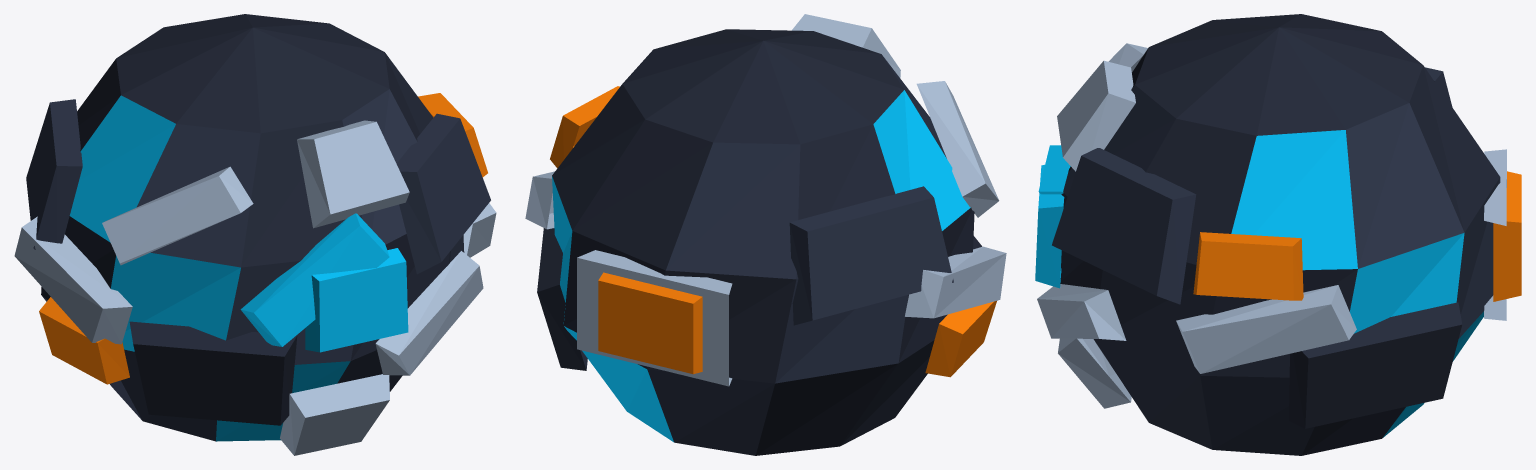
File: SM_Chassis_Trickster_01.obj
The picture shows the model from 3 angles, left to right: view 1: azimuth 30°, elevation 25°; view 2: azimuth 150°, elevation 25°; view 3: azimuth 270°, elevation 25°; orthographic projection. The views are drawn at different scales.
Visible parts, largest first — view 1: SM_Chassis_Trickster_01__MAT_DarkNeutral, SM_Chassis_Trickster_01__MAT_LightTrim, SM_Chassis_Trickster_01__EMI_Cyan, SM_Chassis_Trickster_01__MAT_AltNeutral, SM_Chassis_Trickster_01__EMI_Kinetic; view 2: SM_Chassis_Trickster_01__MAT_DarkNeutral, SM_Chassis_Trickster_01__MAT_AltNeutral, SM_Chassis_Trickster_01__MAT_LightTrim, SM_Chassis_Trickster_01__EMI_Kinetic, SM_Chassis_Trickster_01__EMI_Cyan; view 3: SM_Chassis_Trickster_01__MAT_DarkNeutral, SM_Chassis_Trickster_01__MAT_AltNeutral, SM_Chassis_Trickster_01__EMI_Cyan, SM_Chassis_Trickster_01__MAT_LightTrim, SM_Chassis_Trickster_01__EMI_Kinetic.
Boxes of the visible parts, x1,y1,x2,y2 form: SM_Chassis_Trickster_01__MAT_DarkNeutral: (41, 14, 449, 441); SM_Chassis_Trickster_01__MAT_LightTrim: (14, 120, 496, 455); SM_Chassis_Trickster_01__EMI_Cyan: (69, 95, 408, 441); SM_Chassis_Trickster_01__MAT_AltNeutral: (26, 89, 490, 419); SM_Chassis_Trickster_01__EMI_Kinetic: (39, 93, 487, 384); SM_Chassis_Trickster_01__MAT_DarkNeutral: (537, 29, 981, 455); SM_Chassis_Trickster_01__MAT_AltNeutral: (552, 55, 953, 455); SM_Chassis_Trickster_01__MAT_LightTrim: (525, 14, 1006, 386); SM_Chassis_Trickster_01__EMI_Kinetic: (550, 86, 996, 377); SM_Chassis_Trickster_01__EMI_Cyan: (552, 90, 970, 442); SM_Chassis_Trickster_01__MAT_DarkNeutral: (1060, 14, 1499, 455); SM_Chassis_Trickster_01__MAT_AltNeutral: (1052, 67, 1500, 455); SM_Chassis_Trickster_01__EMI_Cyan: (1035, 130, 1483, 437); SM_Chassis_Trickster_01__MAT_LightTrim: (1037, 43, 1506, 408); SM_Chassis_Trickster_01__EMI_Kinetic: (1193, 171, 1521, 301).
Bounding box in the file's own units: 5.73 × 5.32 × 5.65.
Materials: 5 (5 with a texture image).
